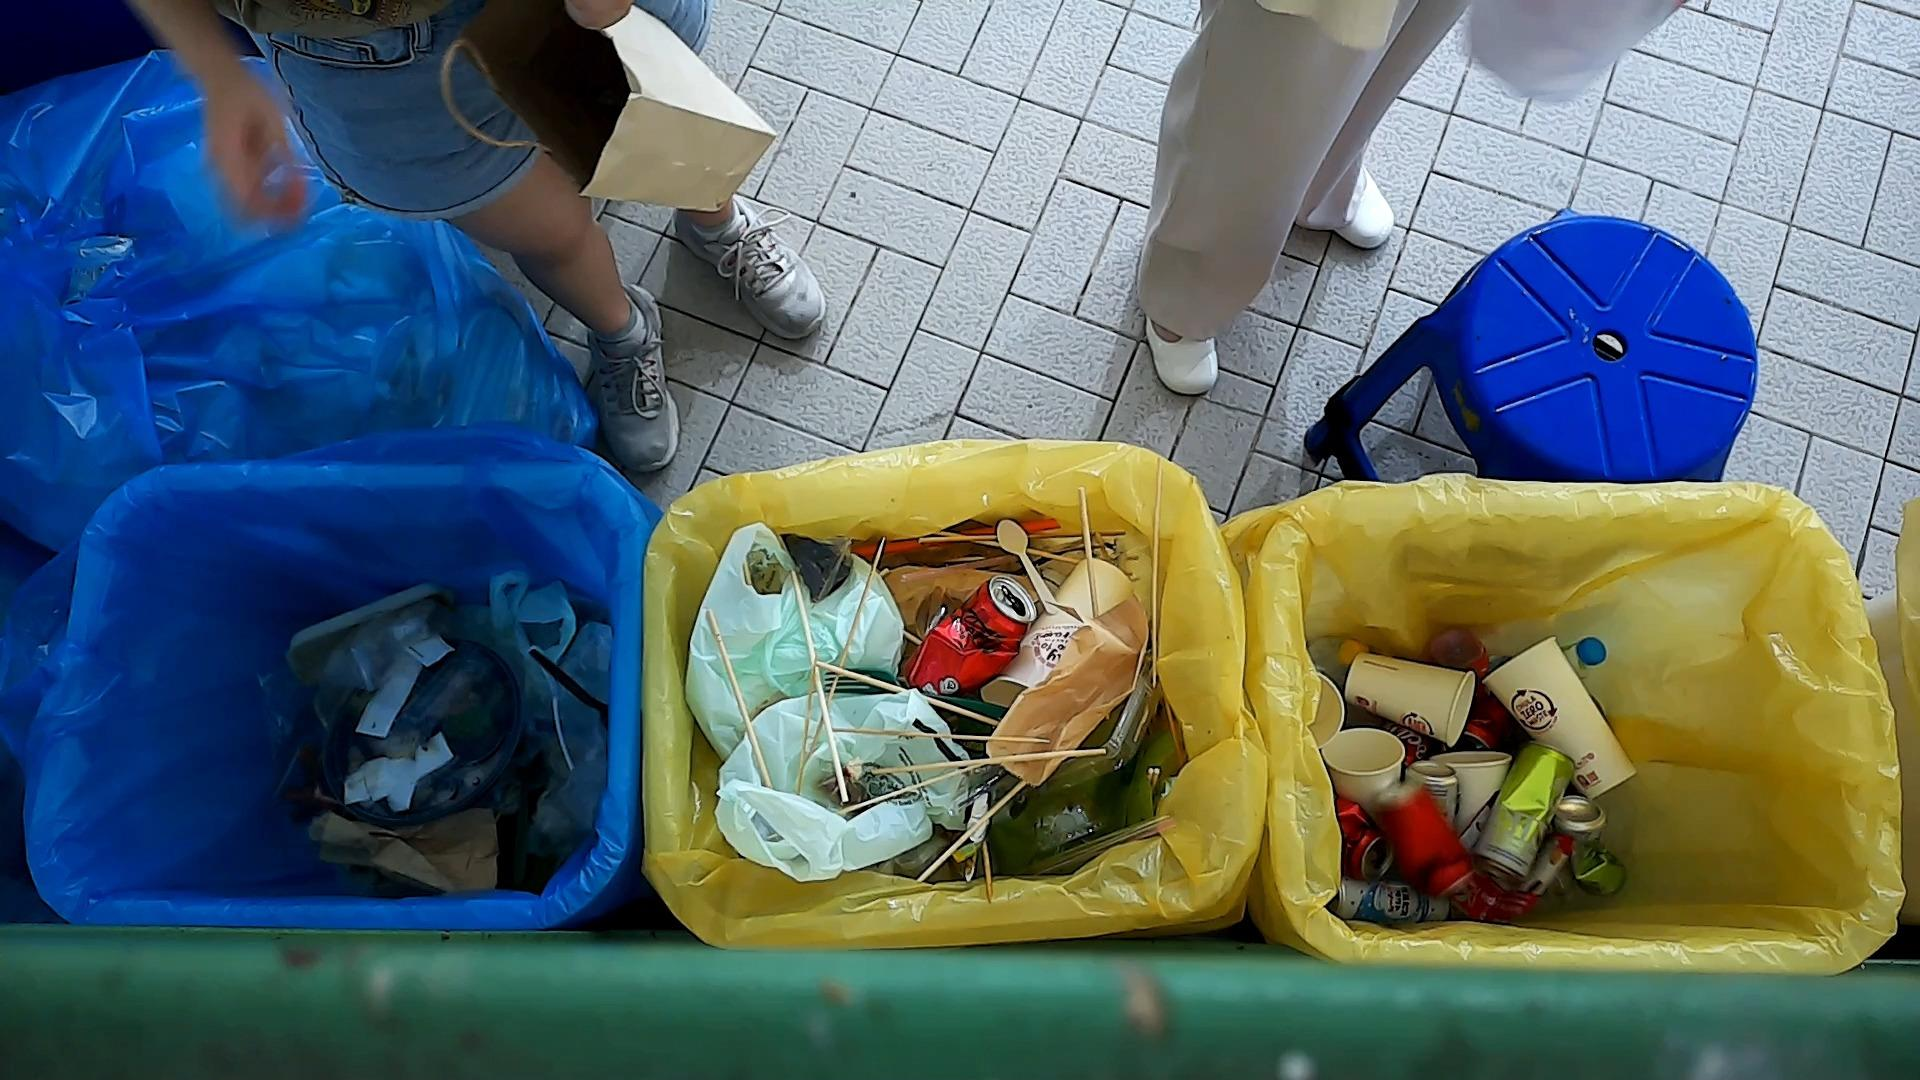can: (897, 574, 1040, 698), (1469, 738, 1578, 887), (1370, 774, 1480, 901), (1544, 793, 1633, 902), (1331, 873, 1452, 927), (1335, 795, 1398, 885)
dirty food container: (315, 605, 529, 833)
filled plastic bag: (679, 517, 914, 760)
paper bag: (427, 0, 783, 222), (981, 589, 1151, 791), (302, 806, 500, 895), (886, 559, 1052, 644)
plastic bag: (709, 683, 982, 897), (483, 564, 616, 848)
plastic cutlery: (822, 665, 1011, 721), (524, 646, 611, 731), (994, 518, 1062, 618), (529, 642, 578, 774)
snack packaging: (1452, 833, 1585, 927)
sticks: (811, 534, 886, 757), (808, 654, 1001, 728), (790, 567, 849, 804), (702, 607, 774, 791), (913, 774, 1029, 886), (835, 762, 985, 815), (868, 748, 1109, 777), (832, 720, 1054, 750), (931, 527, 1080, 567), (915, 525, 1131, 547), (1149, 455, 1167, 690), (1075, 483, 1102, 625), (795, 655, 820, 798)
straw: (898, 553, 1023, 587)
zero waste cup: (1477, 633, 1639, 804), (1341, 649, 1480, 752), (1321, 725, 1406, 822)
